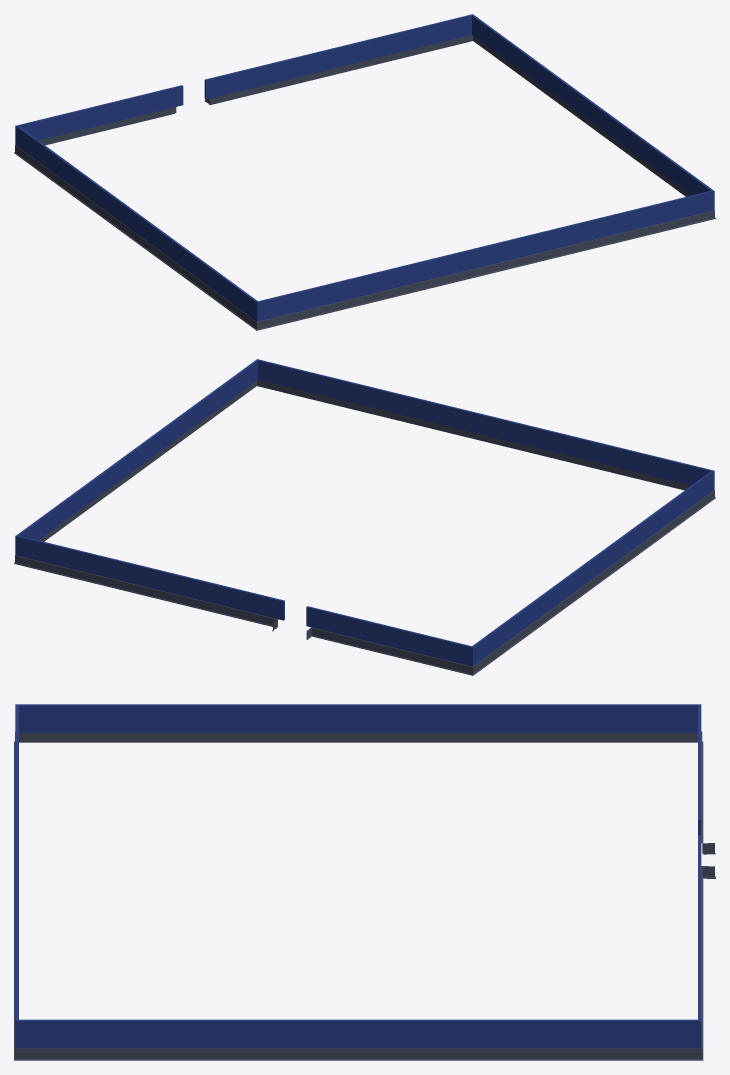
File: OutWall.fbx
The picture shows the model from 3 angles, top to bottom: view 1: azimuth 30°, elevation 25°; view 2: azimuth 150°, elevation 25°; view 3: azimuth 270°, elevation 25°; orthographic projection. The views are drawn at different scales.
Visible parts, largest first — view 1: Outside_Wall; view 2: Outside_Wall; view 3: Outside_Wall.
Part boxes in pixels (left/top/right/bottom): Outside_Wall: left=14, top=14, right=715, bottom=330; Outside_Wall: left=14, top=359, right=715, bottom=675; Outside_Wall: left=14, top=704, right=715, bottom=1060.
Size of the model in its own units: 7508 by 7006 by 431.
